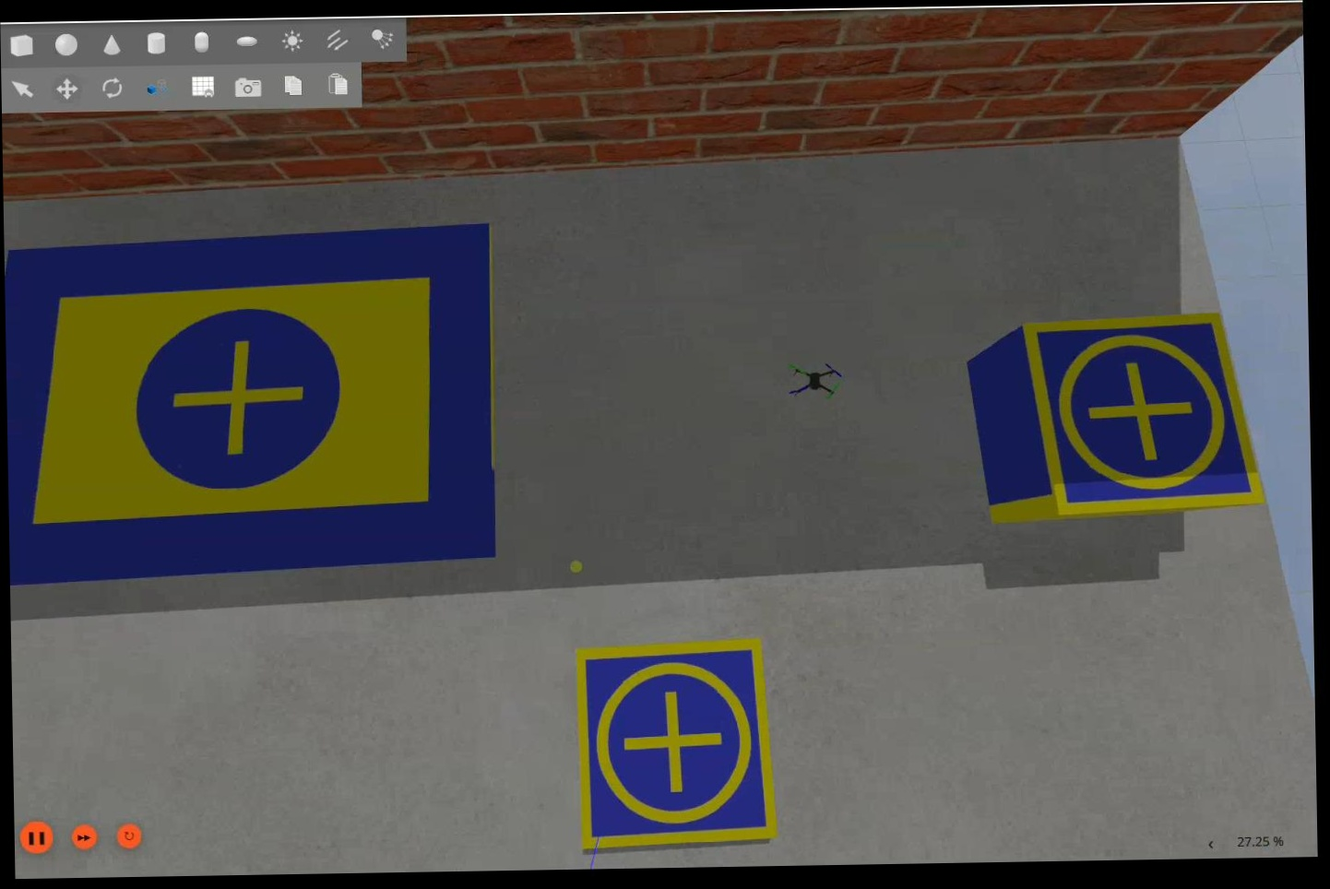large_base: (4, 221, 494, 581)
small_base: (1024, 316, 1269, 517), (576, 639, 778, 850)
